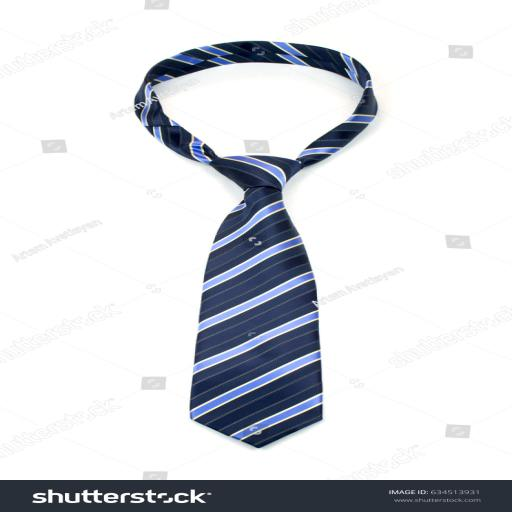tie: (132, 40, 378, 448)
